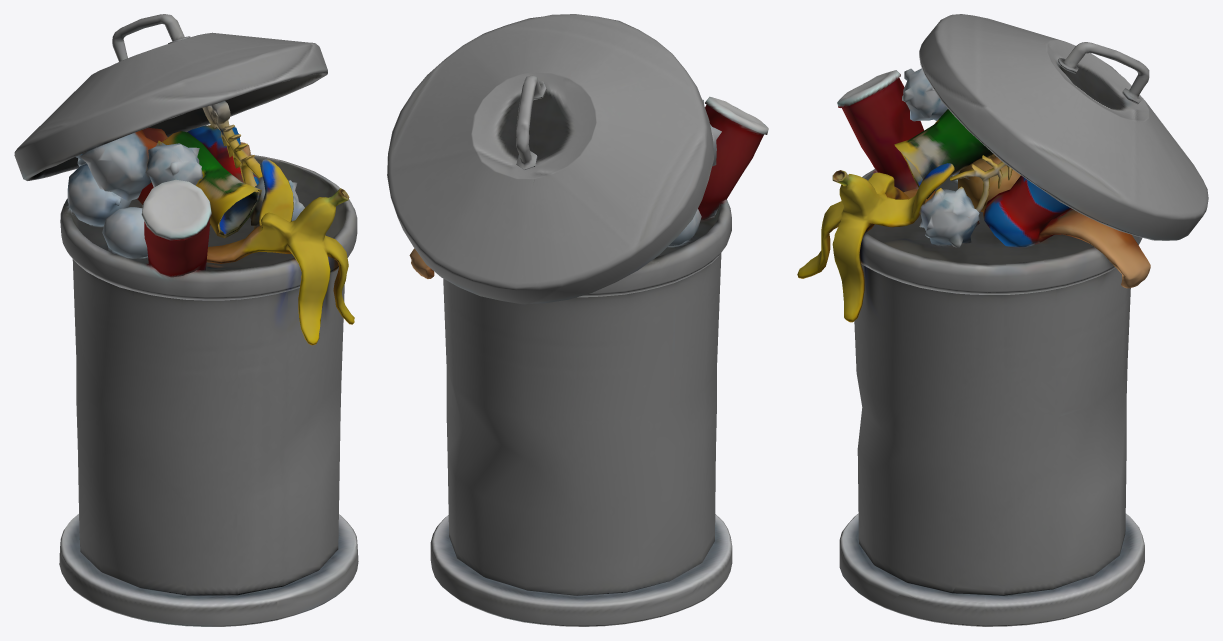
The model's file is trash_can.glb.
The picture shows the model from 3 angles, left to right: view 1: azimuth 30°, elevation 25°; view 2: azimuth 150°, elevation 25°; view 3: azimuth 270°, elevation 25°; orthographic projection.
Parts seen in each view (by area): view 1: tripo_node_648fa4f8-e66a-4684-b9b1-e25e48eb509f; view 2: tripo_node_648fa4f8-e66a-4684-b9b1-e25e48eb509f; view 3: tripo_node_648fa4f8-e66a-4684-b9b1-e25e48eb509f.
Boxes of the visible parts, box(x1,y1,x2,y2) form: tripo_node_648fa4f8-e66a-4684-b9b1-e25e48eb509f: box(14, 14, 358, 626); tripo_node_648fa4f8-e66a-4684-b9b1-e25e48eb509f: box(387, 14, 768, 626); tripo_node_648fa4f8-e66a-4684-b9b1-e25e48eb509f: box(797, 14, 1208, 626).
Size of the model in its own units: 0.5723 by 0.998 by 0.7051.
1 material, 1 textured.
